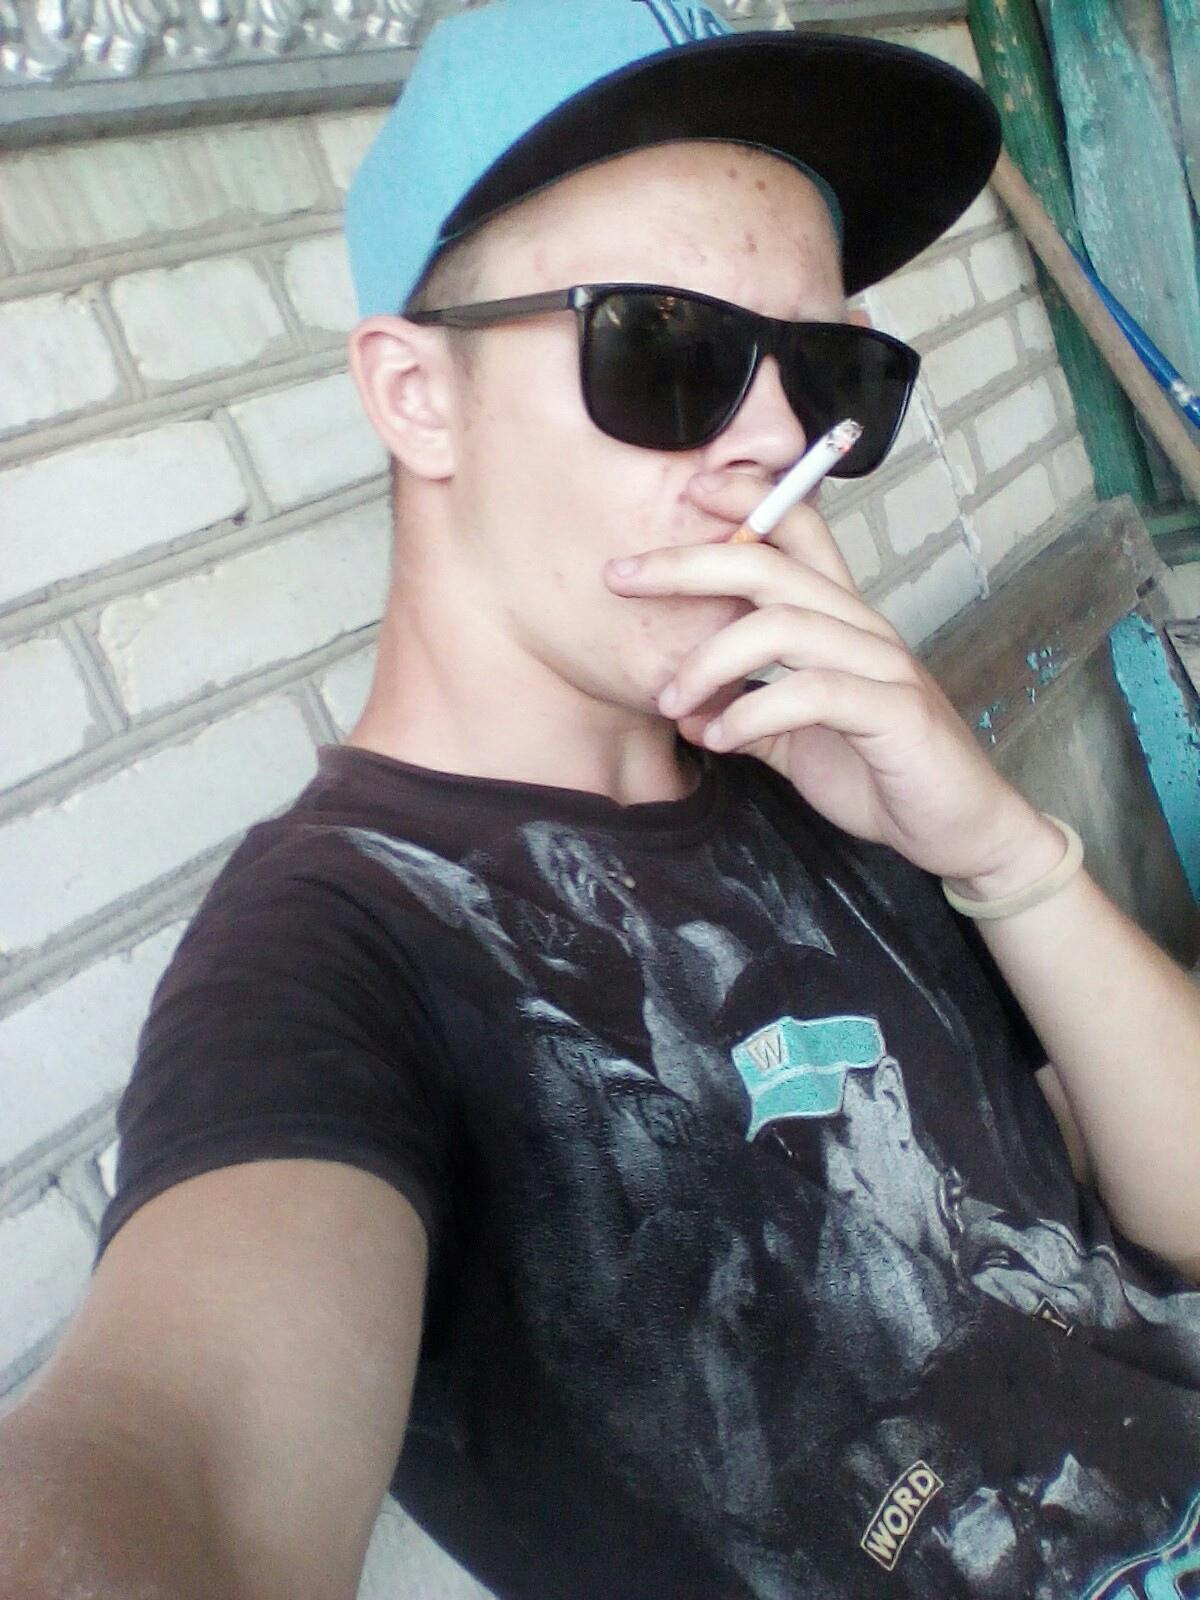cigarette: (726, 417, 865, 544)
